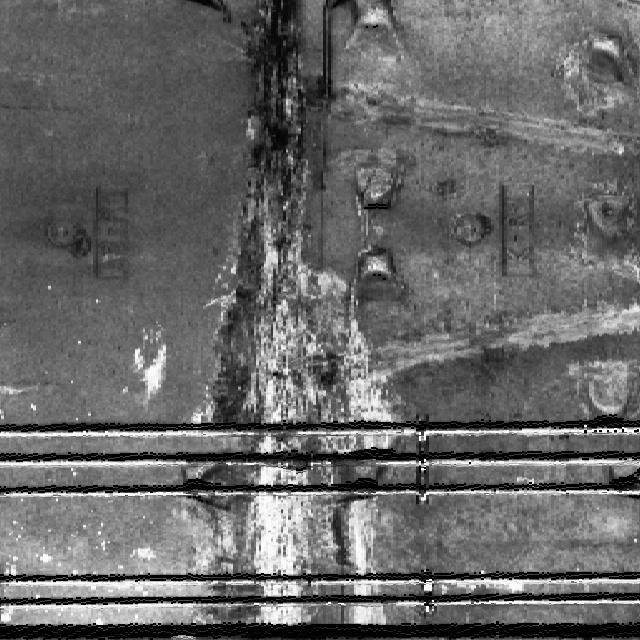leakage: (173, 0, 397, 637)
